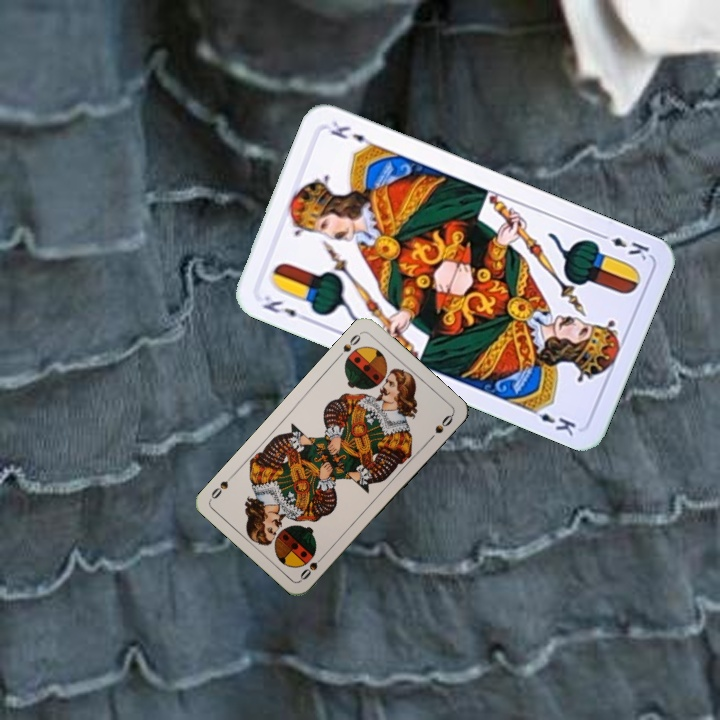EK: (594, 229, 652, 263), (258, 291, 311, 324)
SO: (296, 550, 328, 583), (333, 328, 364, 362)
